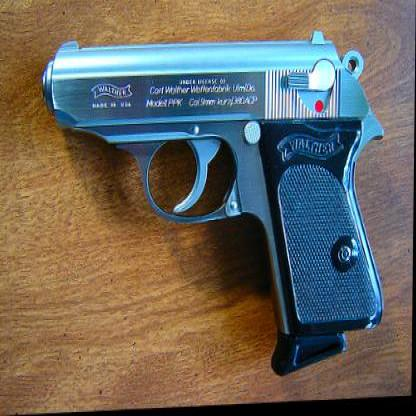pistol: (37, 25, 386, 388)
